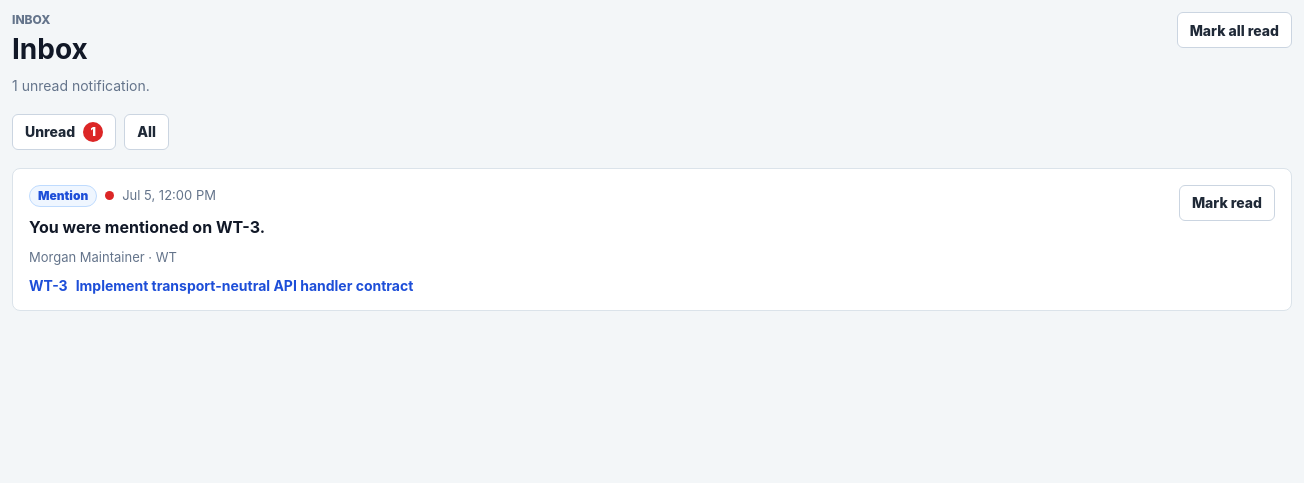
Test: InboxPageComponent › switches between unread and all notifications
Click the button "All" at (147, 132), box [124,114,169,150]
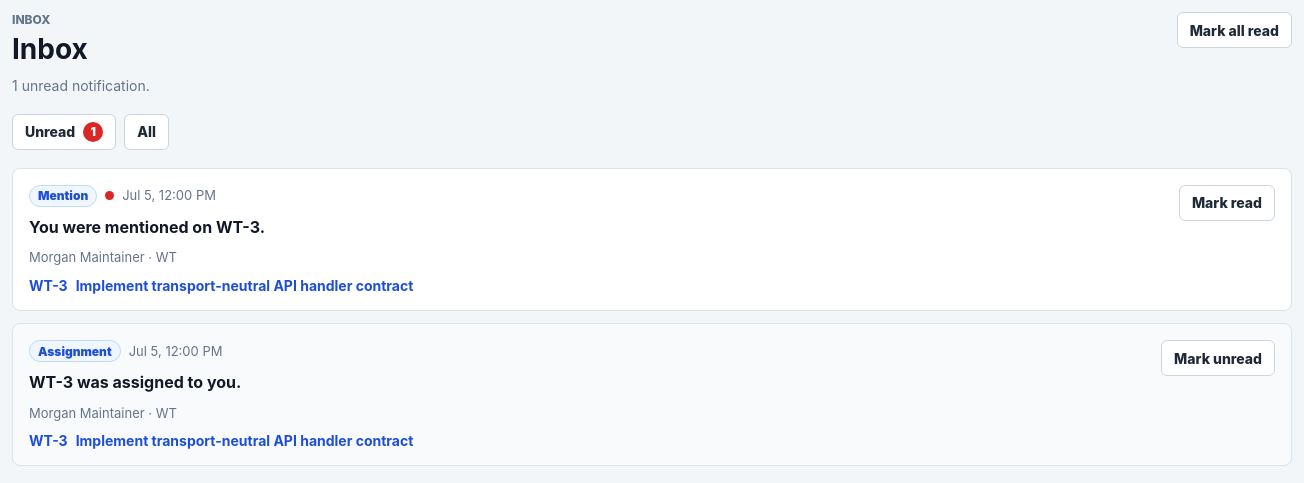
Check: the text "You were mentioned on WT-3." is shown, box [29,217,265,237]
Check: the text "WT-3 was assigned to you." is shown, box [29,372,241,392]
Check: the text "Mark unread" is shown, box [1161,340,1275,376]
